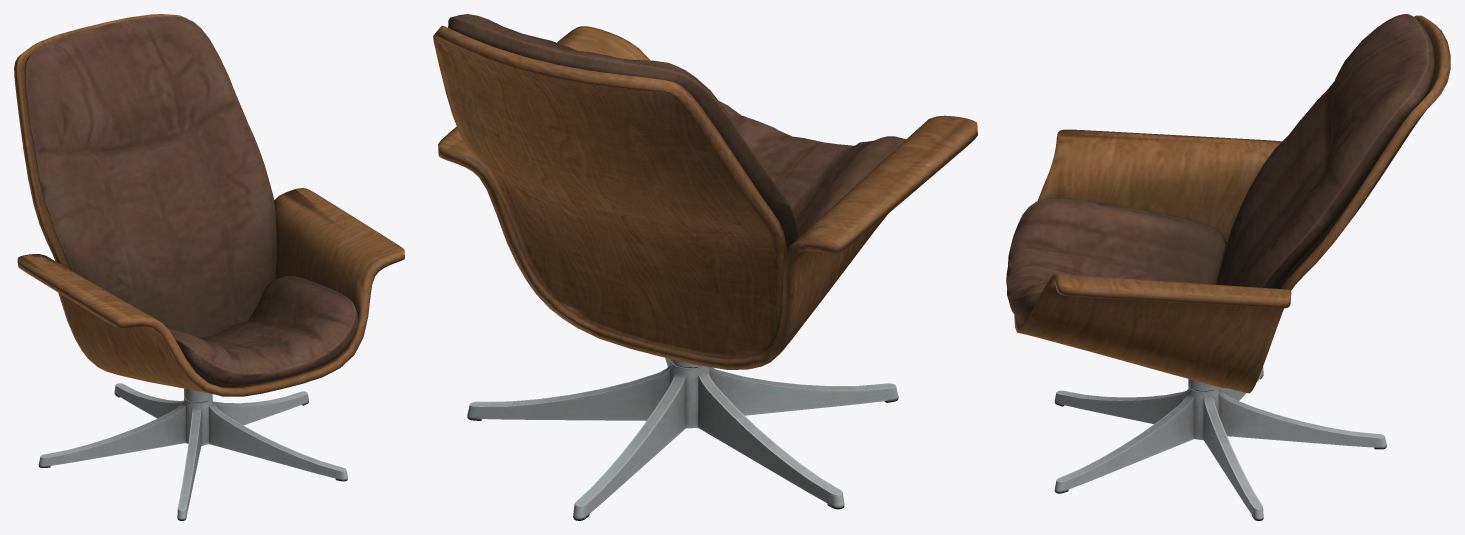
File: mid_century_lounge_chair.glb
3 views of the same model, side by side, from view 1: azimuth 30°, elevation 25°; view 2: azimuth 150°, elevation 25°; view 3: azimuth 270°, elevation 25° (orthographic). The views are drawn at different scales.
Parts seen in each view (by area): view 1: mid_century_lounge_chair; view 2: mid_century_lounge_chair; view 3: mid_century_lounge_chair.
Boxes of the visible parts, x1=… form: mid_century_lounge_chair: x1=14, y1=14, x2=404, y2=520; mid_century_lounge_chair: x1=433, y1=14, x2=977, y2=520; mid_century_lounge_chair: x1=1006, y1=14, x2=1450, y2=520.
Bounding box in the file's own units: 1.01 × 1.17 × 1.19.
1 material, 1 textured.
